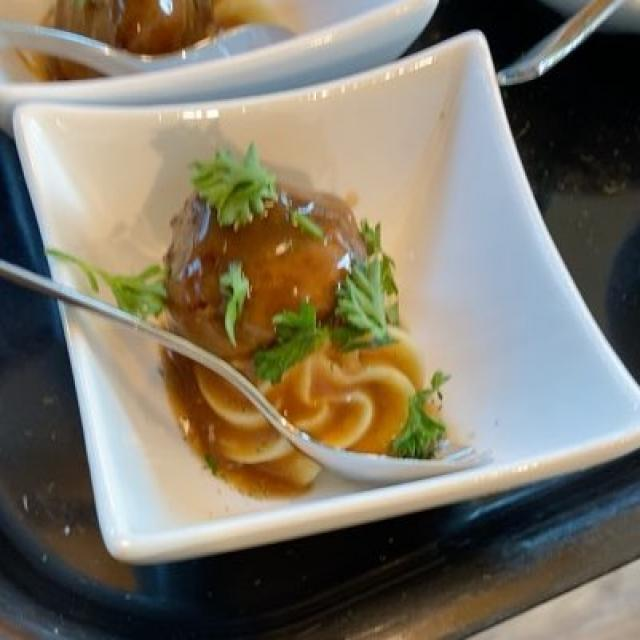beef: (151, 178, 371, 334)
mashed-potatoes: (179, 327, 438, 491)
